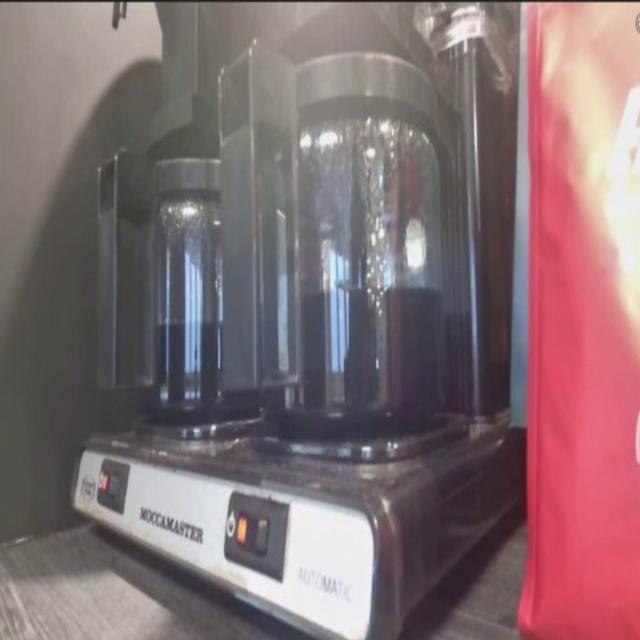coffee: (278, 146, 447, 429), (140, 224, 260, 415)
